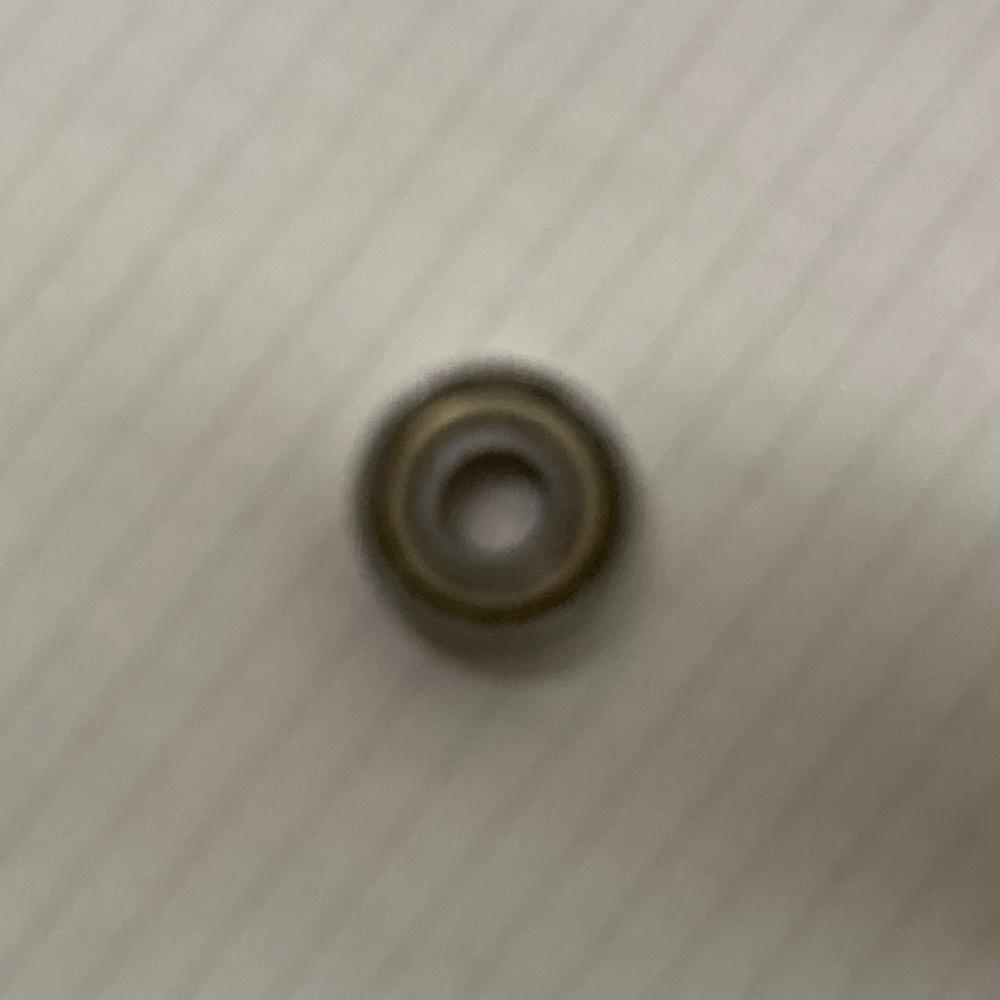ball_bearing: (349, 359, 634, 653)
